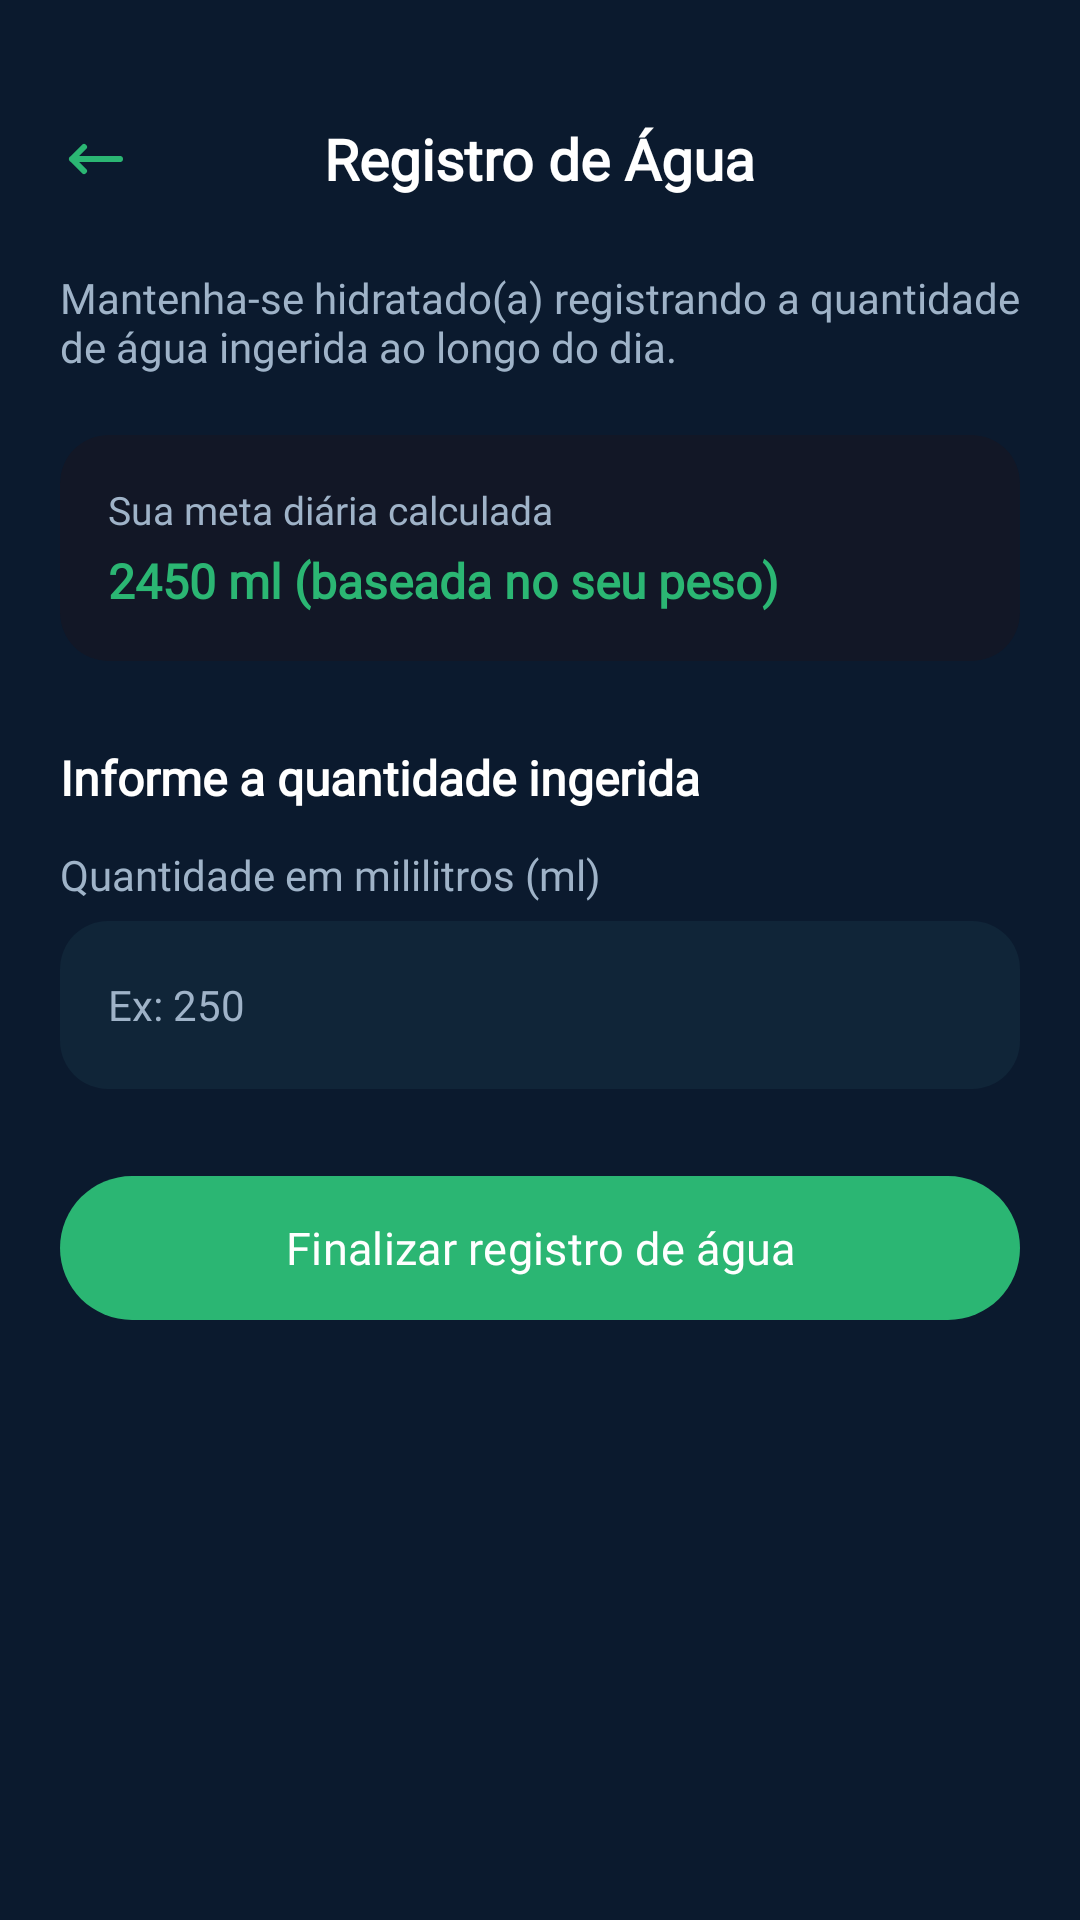

Where to tap for icons on this 1080 x 1920 app screen, as (x=x, y=y):
Voltar: (x=96, y=159)
